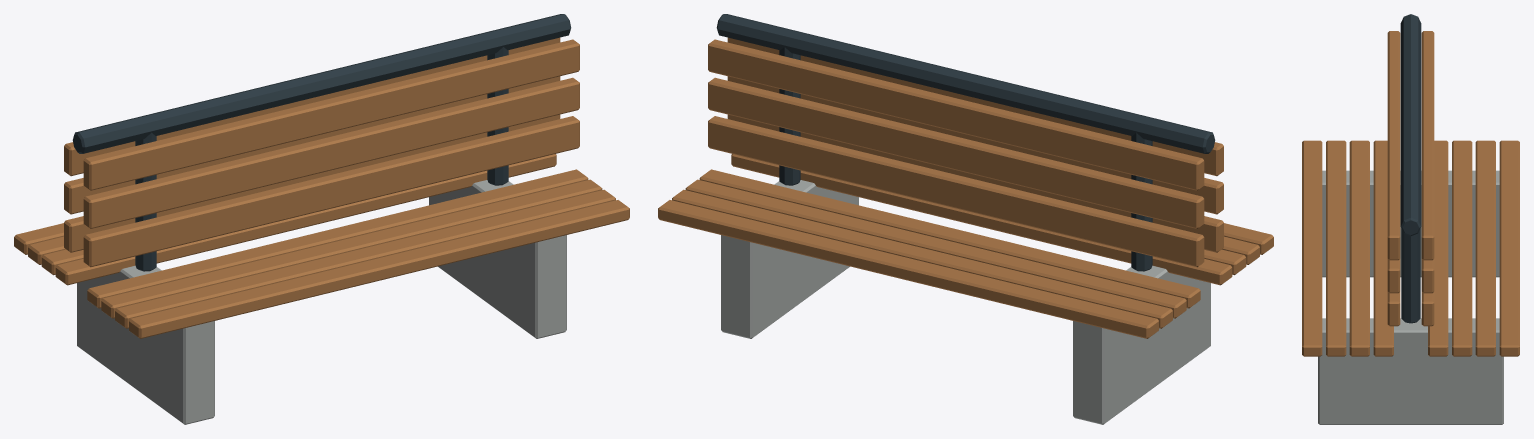
File: b01_double_sided_station_bench.glb
3 views of the same model, side by side, from view 1: azimuth 30°, elevation 25°; view 2: azimuth 150°, elevation 25°; view 3: azimuth 270°, elevation 25° (orthographic). The views are drawn at different scales.
Visible parts, largest first — view 1: b01_double_sided_station_bench; view 2: b01_double_sided_station_bench; view 3: b01_double_sided_station_bench.
Part boxes in pixels (<box>): b01_double_sided_station_bench: <box>14,14,629,424</box>; b01_double_sided_station_bench: <box>658,14,1273,424</box>; b01_double_sided_station_bench: <box>1302,14,1519,424</box>.
Size of the model in its own units: 2.15 by 1.12 by 0.96.
